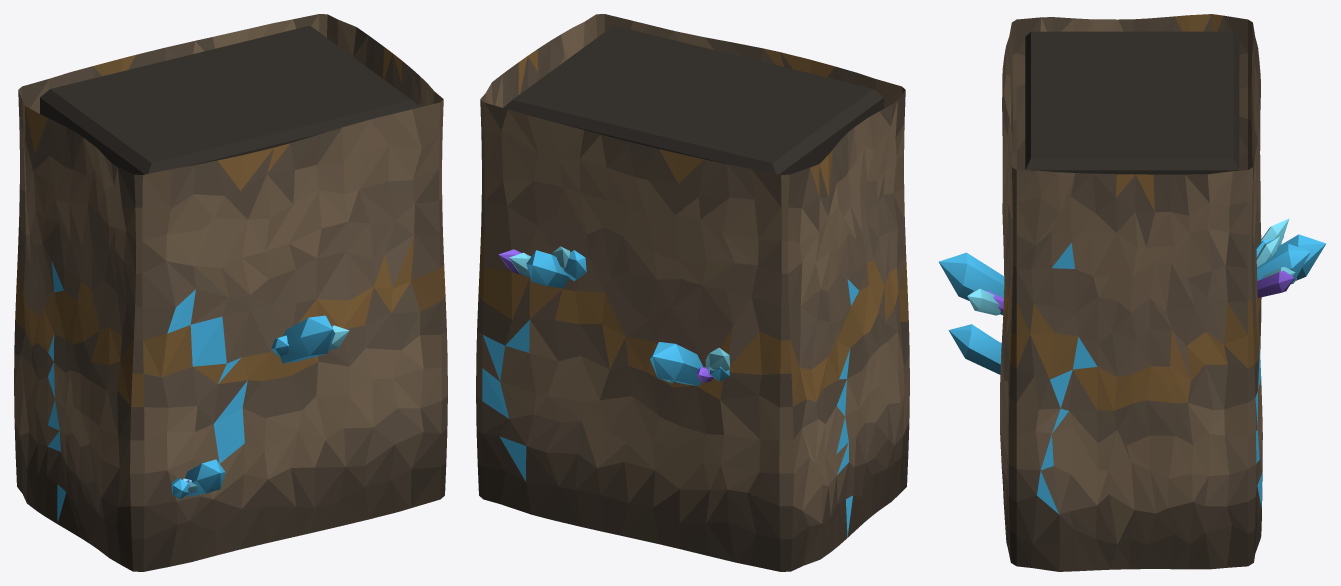
Rendered from wall_a.fbx.
3 views of the same model, side by side, from view 1: azimuth 30°, elevation 25°; view 2: azimuth 150°, elevation 25°; view 3: azimuth 270°, elevation 25° (orthographic).
Parts seen in each view (by area): view 1: wall_a; view 2: wall_a; view 3: wall_a.
Boxes of the visible parts, x1,y1,x2,y2 form: wall_a: (14, 14, 447, 571); wall_a: (476, 14, 909, 571); wall_a: (939, 14, 1326, 571).
Size of the model in its own units: 4 by 4.5 by 4.
